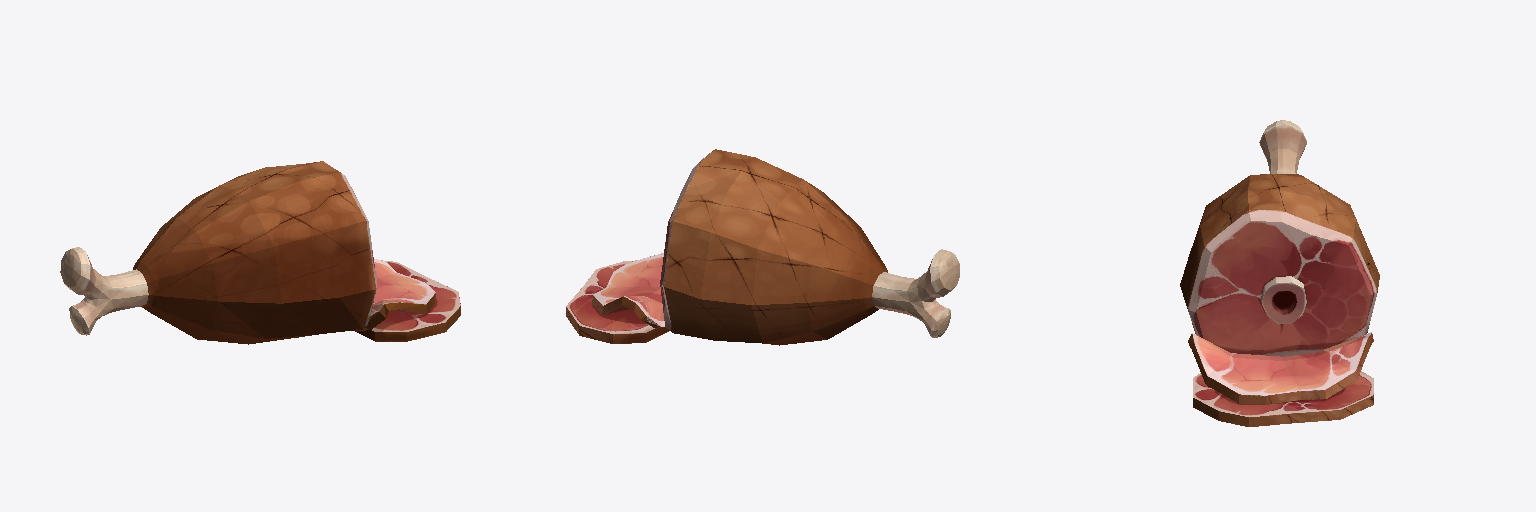
3 views of the same model, side by side, from view 1: azimuth 30°, elevation 25°; view 2: azimuth 150°, elevation 25°; view 3: azimuth 270°, elevation 25° (orthographic).
Parts seen in each view (by area): view 1: ham_Cylinder.002; view 2: ham_Cylinder.002; view 3: ham_Cylinder.002.
Part boxes in pixels (x1,y1,x2,y2): ham_Cylinder.002: (60, 161, 460, 344); ham_Cylinder.002: (566, 149, 959, 345); ham_Cylinder.002: (1180, 120, 1379, 426).
Size of the model in its own units: 4.34 by 1.77 by 2.01.
Materials: 1 (1 with a texture image).